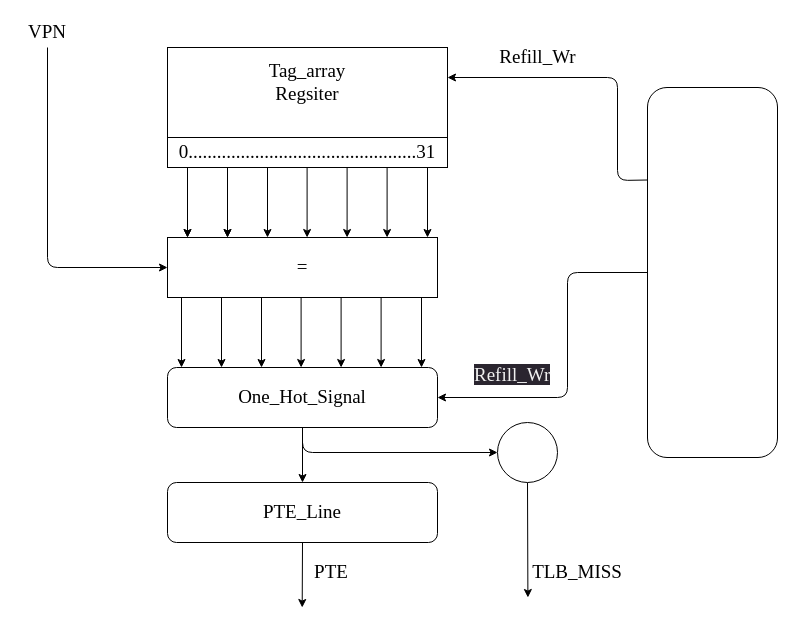
The diagram is 795 pixels wide and 633 high, and some of its shapes have lost their labels. Here are the shapes that lost their labels. From the top down, the centre of each, then its label:
At (712,272): "TLB_Control".
At (527,452): "OR".
